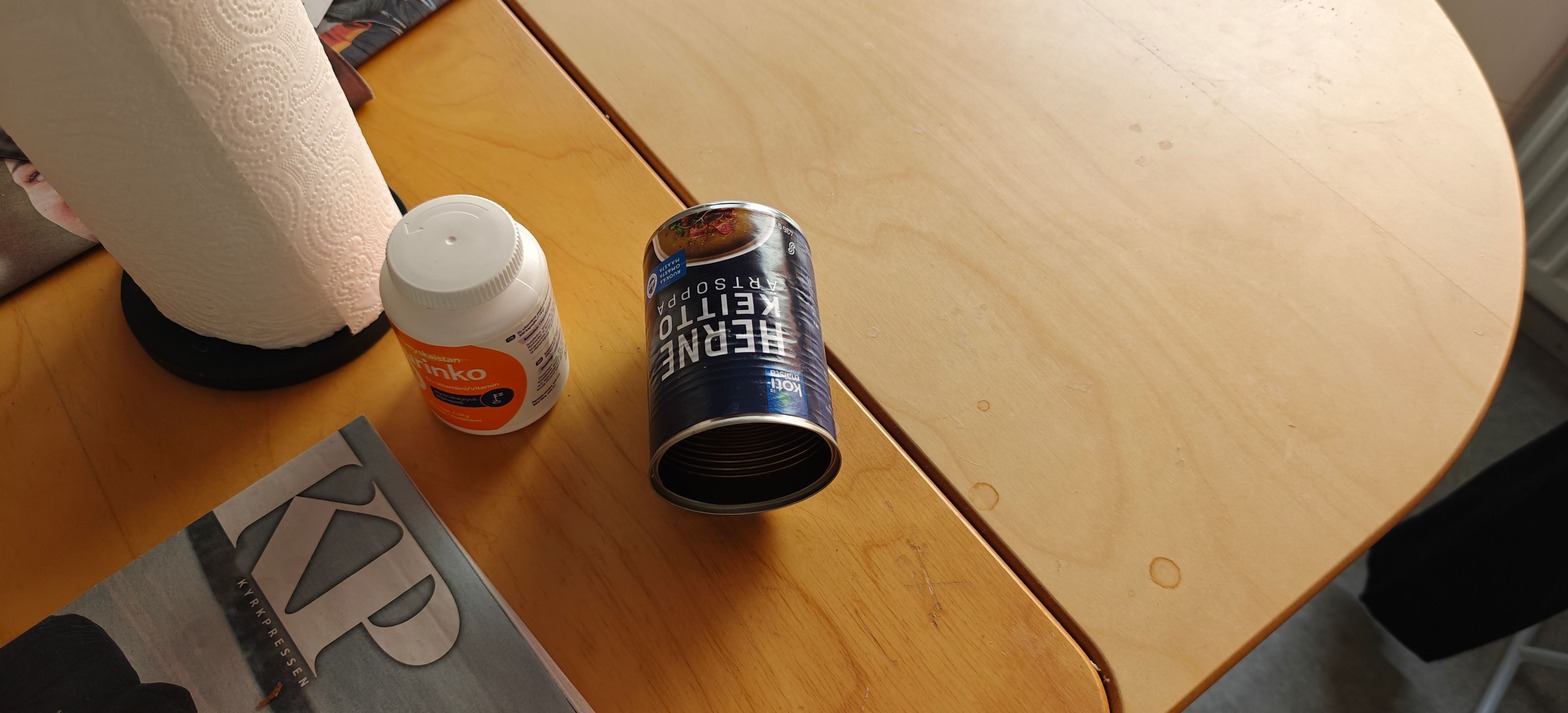Konservburk: (643, 200, 842, 515)
